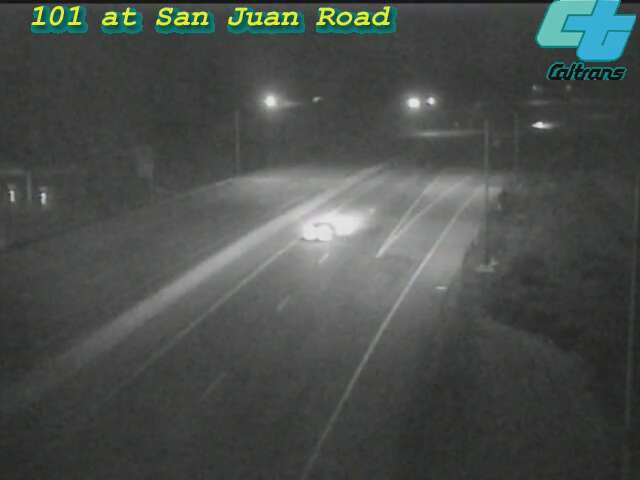vehicle: (271, 196, 351, 276), (516, 101, 566, 151)
